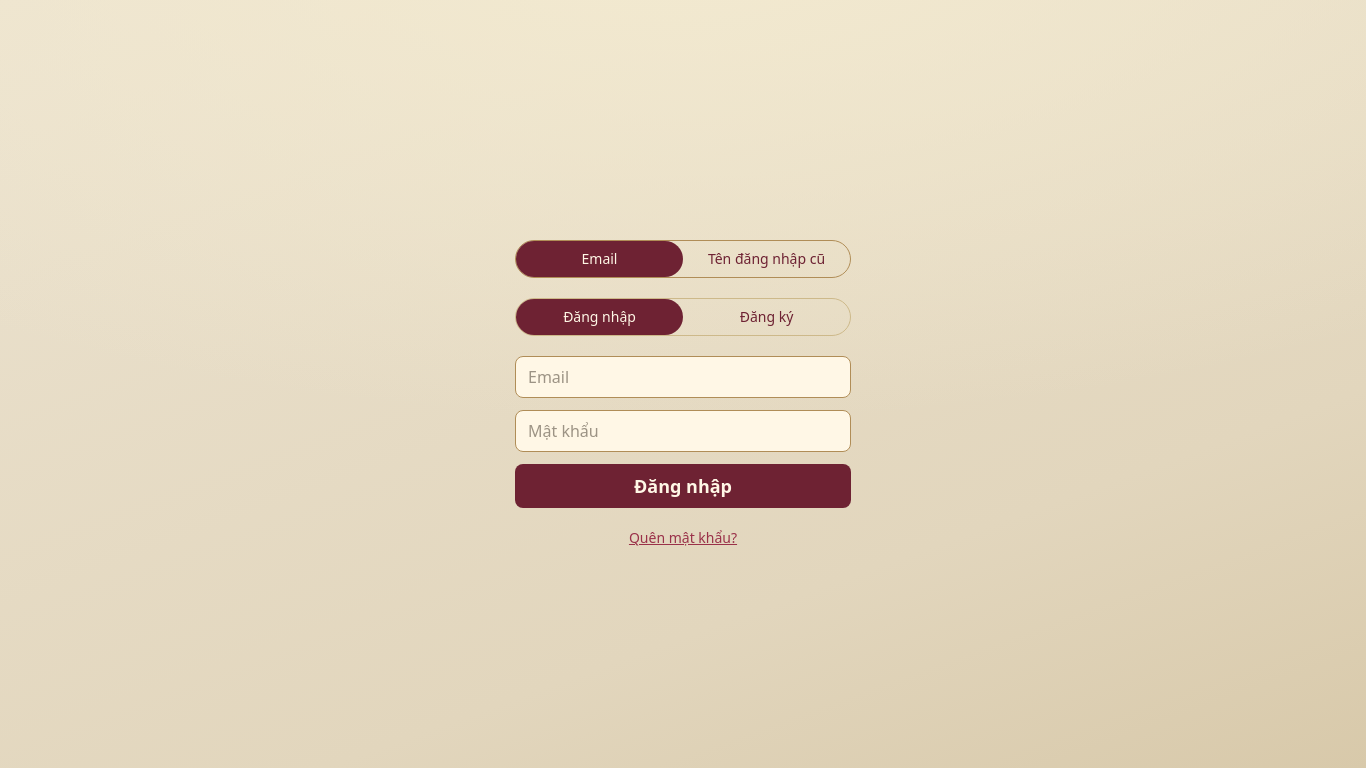
it: AuthScreen — the Email tab (0112) › sends a reset mail with the same answer for any email, and explains legacy accounts
Click the button "Quên mật khẩu?" at x=683, y=538, box 515,528 -> 851,548
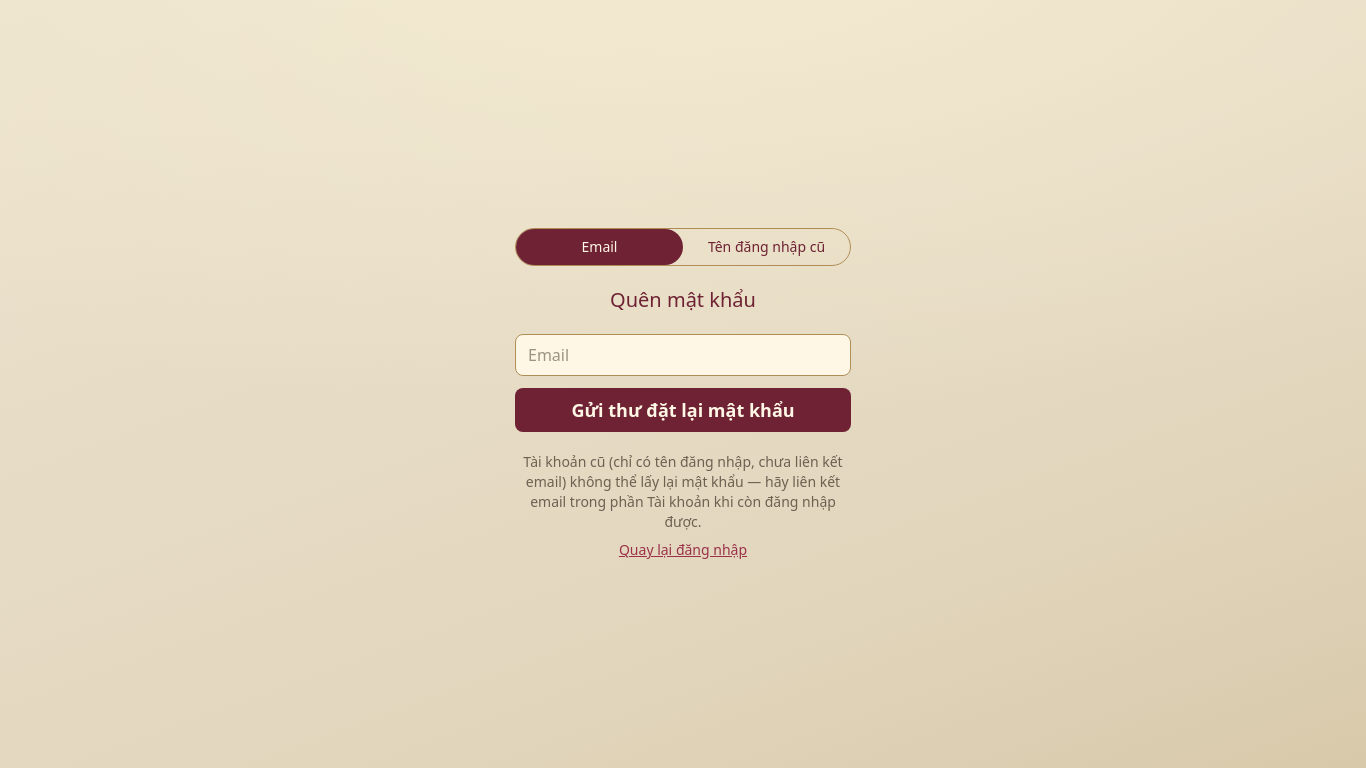
Type "ai-do@mail.vn" into the field with placeholder "Email" at x=683, y=355, box 515,334 -> 851,376
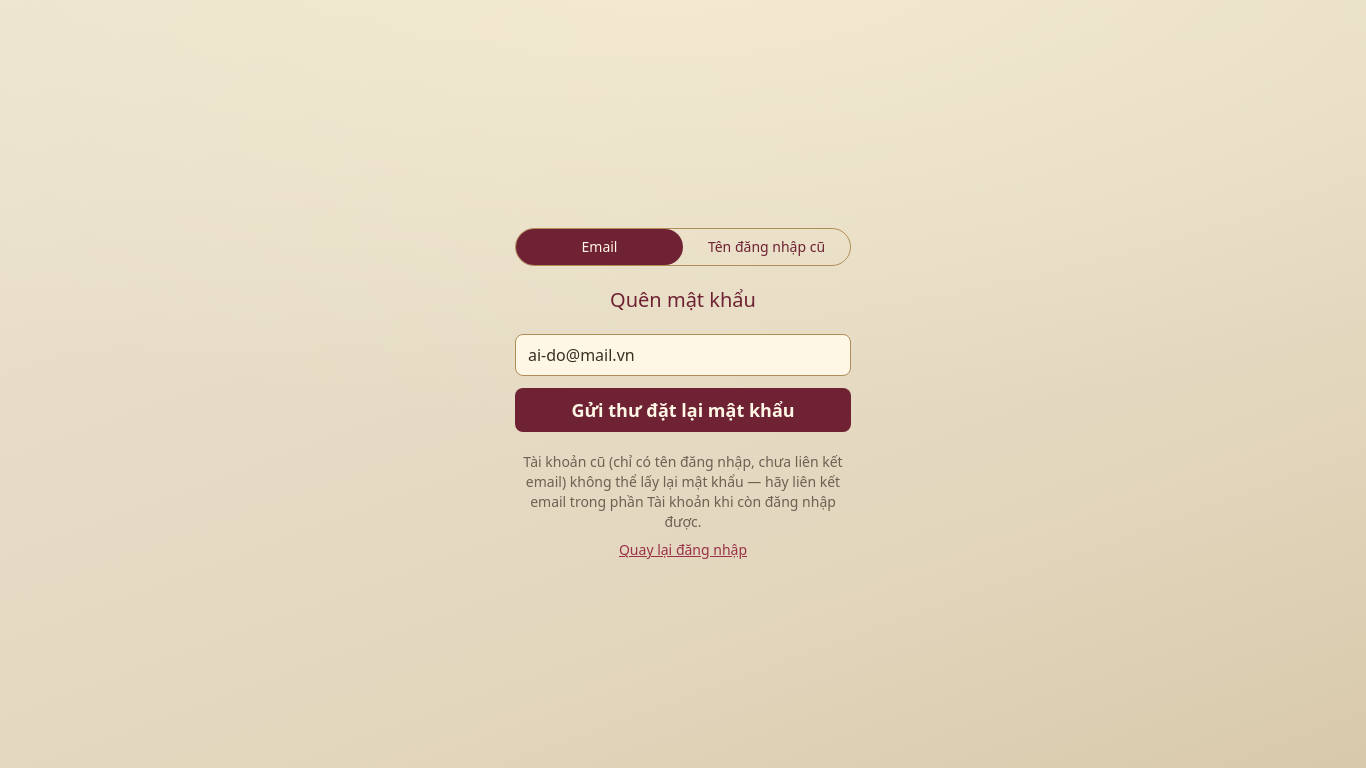
Submit the form with placeholder "Email", box 515,334 -> 851,432
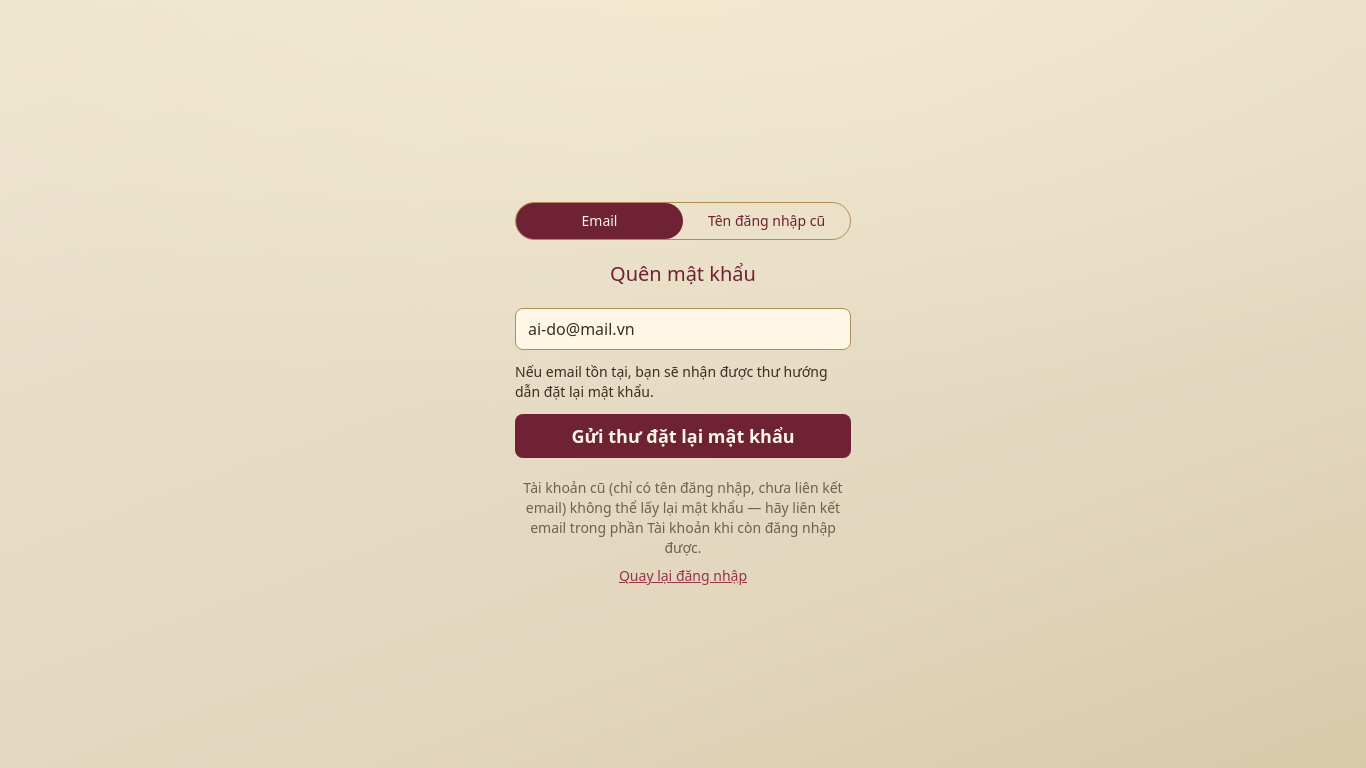
Result: the message reads "Nếu email tồn tại, bạn sẽ nhận được thư hướng dẫn đặt lại mật khẩu." at 515,362 -> 828,401
